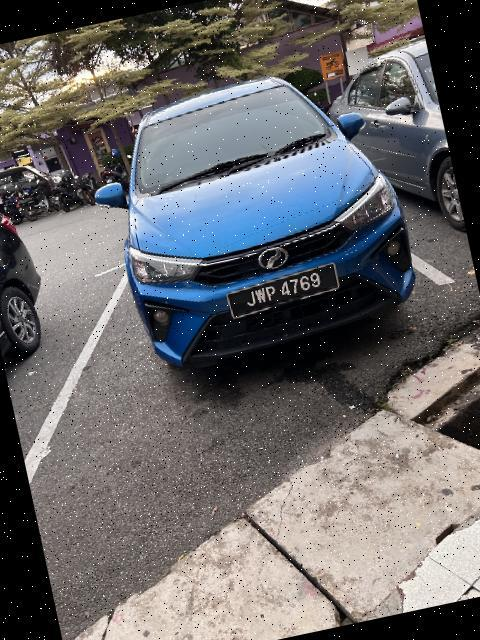JWP4769: (222, 261, 345, 324)
License_Plate: (222, 261, 345, 324)
car: (67, 51, 428, 384)
